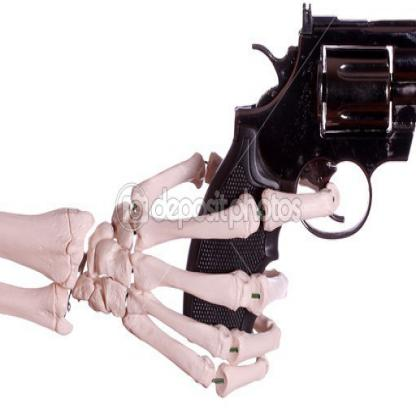gun: (178, 0, 415, 353)
